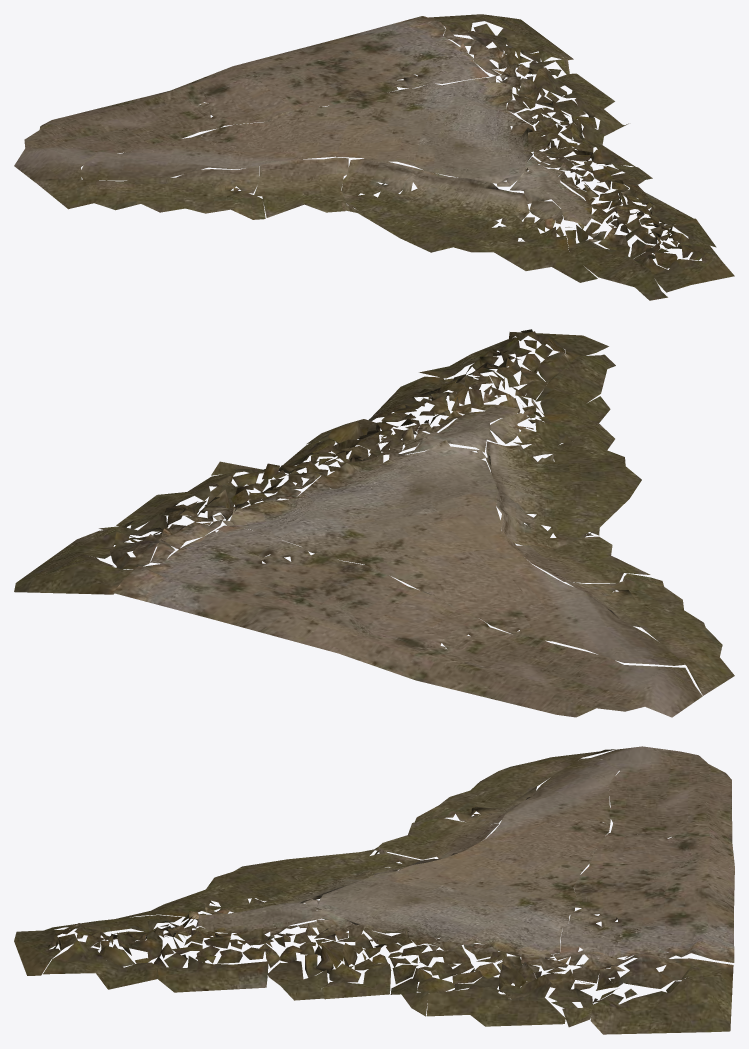
Rendered from ph_coast_rocks_02.glb.
The picture shows the model from 3 angles, top to bottom: view 1: azimuth 30°, elevation 25°; view 2: azimuth 150°, elevation 25°; view 3: azimuth 270°, elevation 25°; orthographic projection. The views are drawn at different scales.
Visible parts, largest first — view 1: coast_rocks_02; view 2: coast_rocks_02; view 3: coast_rocks_02.
Part boxes in pixels (box(x1,y1,x2,y2)): coast_rocks_02: box(14, 14, 734, 300); coast_rocks_02: box(14, 329, 734, 717); coast_rocks_02: box(14, 746, 734, 1034).
Bounding box in the file's own units: 45.81 × 2.84 × 49.46.
1 material, 1 textured.
